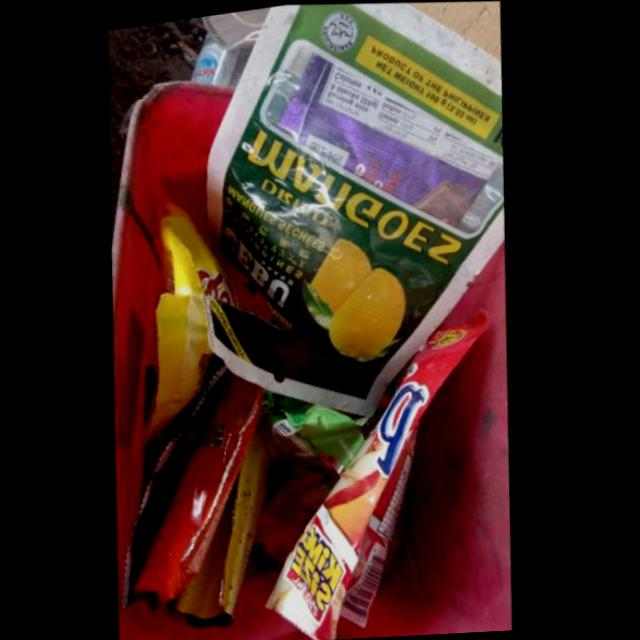bao_bi_thuc_pham: (213, 0, 513, 411), (268, 304, 494, 638), (124, 344, 270, 596), (167, 422, 273, 616), (150, 215, 231, 434), (270, 383, 371, 462)
